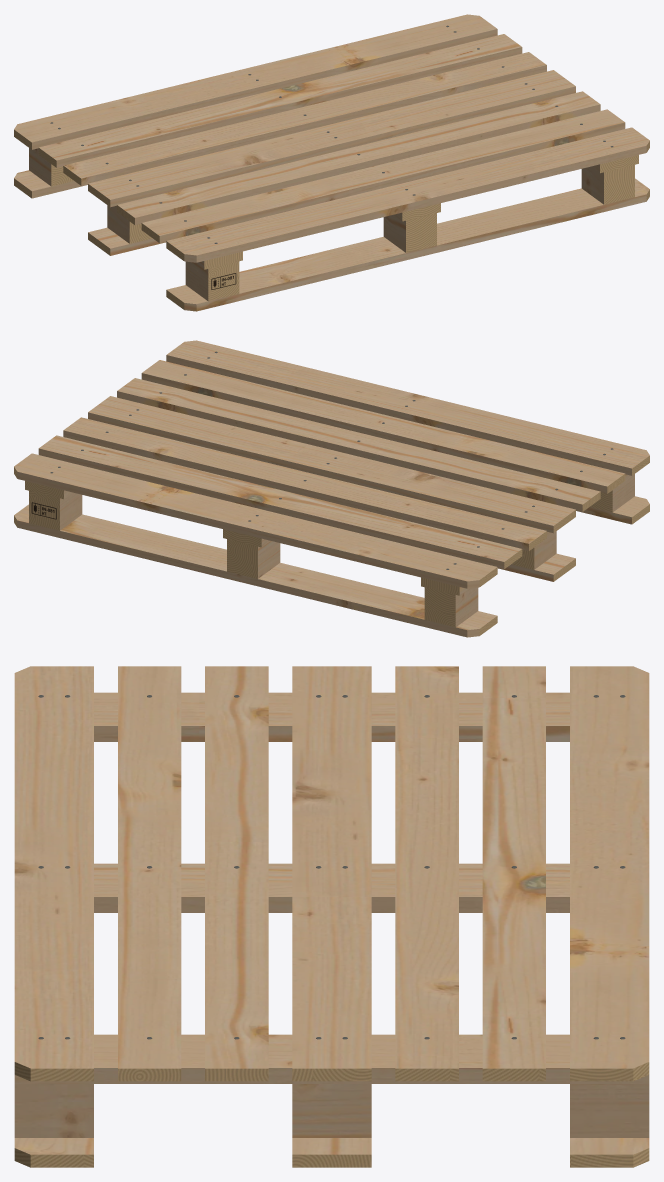
Rendered from cp2-type-pallet-800x1200.glb.
3 renders of one model, top to bottom at view 1: azimuth 30°, elevation 25°; view 2: azimuth 150°, elevation 25°; view 3: azimuth 270°, elevation 25°, orthographic. The views are drawn at different scales.
Parts seen in each view (by area): view 1: cp2-type-pallet-800x1200; view 2: cp2-type-pallet-800x1200; view 3: cp2-type-pallet-800x1200.
Part boxes in pixels (<box>): cp2-type-pallet-800x1200: <box>14,14,649,311</box>; cp2-type-pallet-800x1200: <box>14,340,649,637</box>; cp2-type-pallet-800x1200: <box>14,666,649,1167</box>.
Bounding box in the file's own units: 1.2 × 0.139 × 0.8019.
4 materials, 3 textured.
